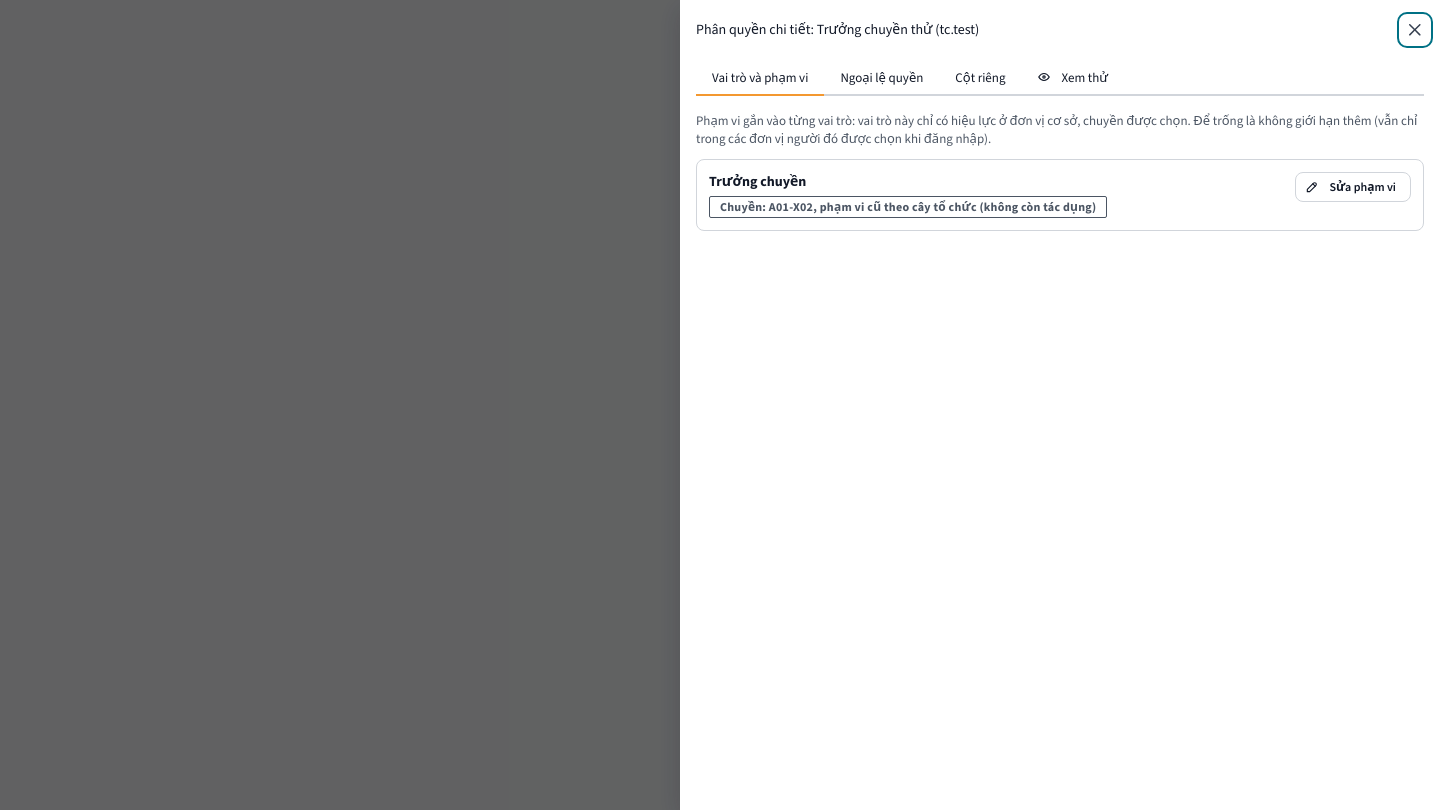
Phân quyền chi tiết: phạm vi chuyền theo mã bộ phận › chỉ còn mã không còn tác dụng (kể cả "~mã" của phạm vi cũ theo cây tổ chức): không bỏ được, chưa có thay đổi thì không lưu
Step 1. Click the button "Sửa phạm vi" → (1353, 187), box [1295, 172, 1411, 202]
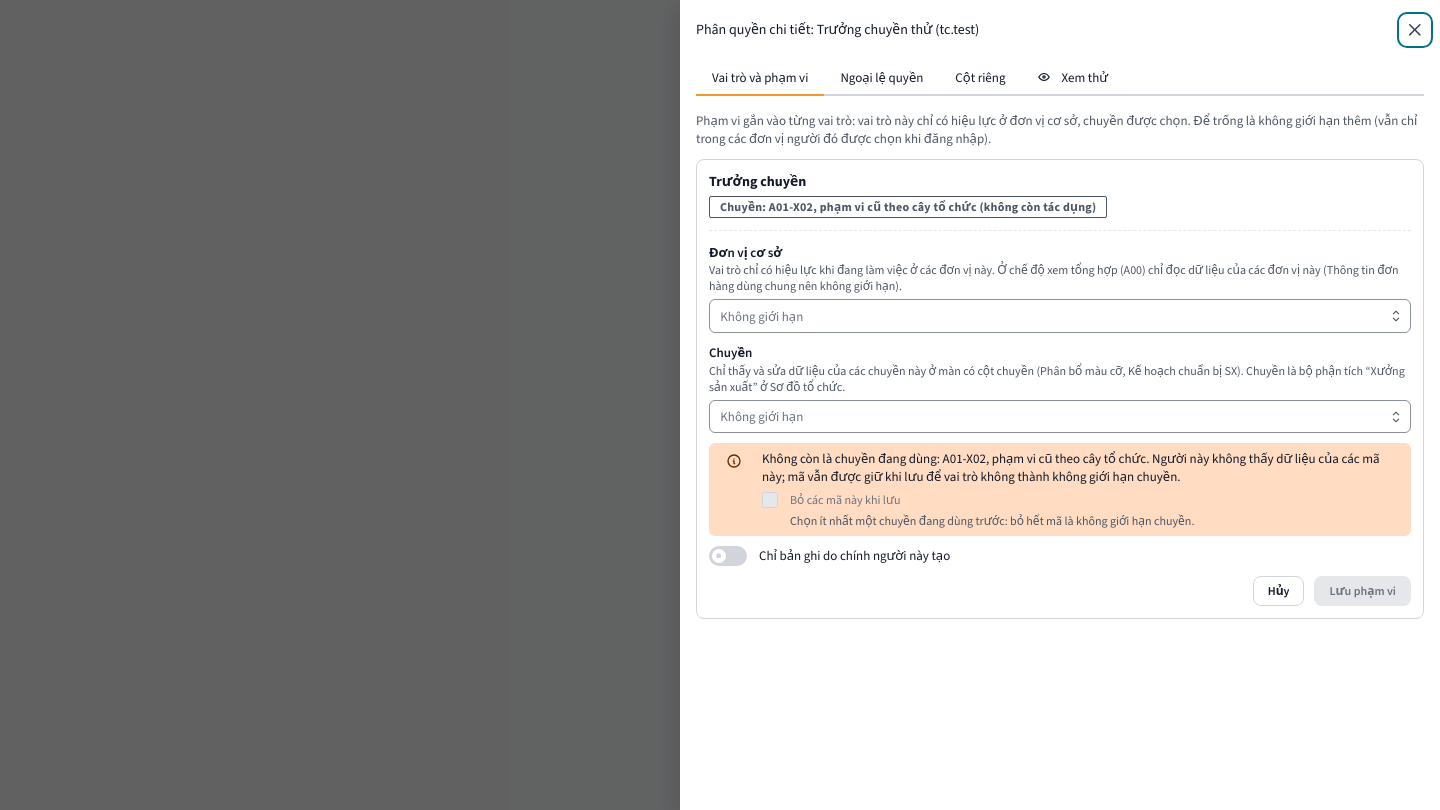
Now the element that starts with "Không còn là chuyền đang dùng:" shows "Không còn là chuyền đang dùng: A01-X02, phạm vi cũ theo cây tổ chức.", box [709, 444, 1411, 536]
Now the checkbox labelled "Bỏ các mã này khi lưu" is disabled, box [762, 492, 778, 508]
Now the text "Chọn ít nhất một chuyền đang dùng trước" is shown, box [790, 513, 1194, 529]
